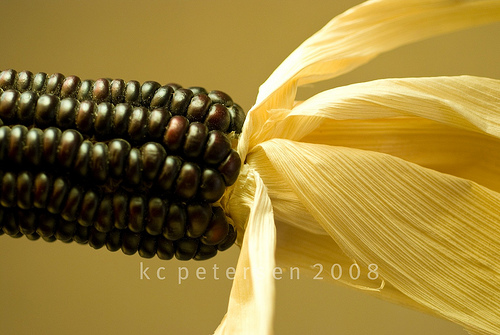corn: (0, 65, 243, 262)
